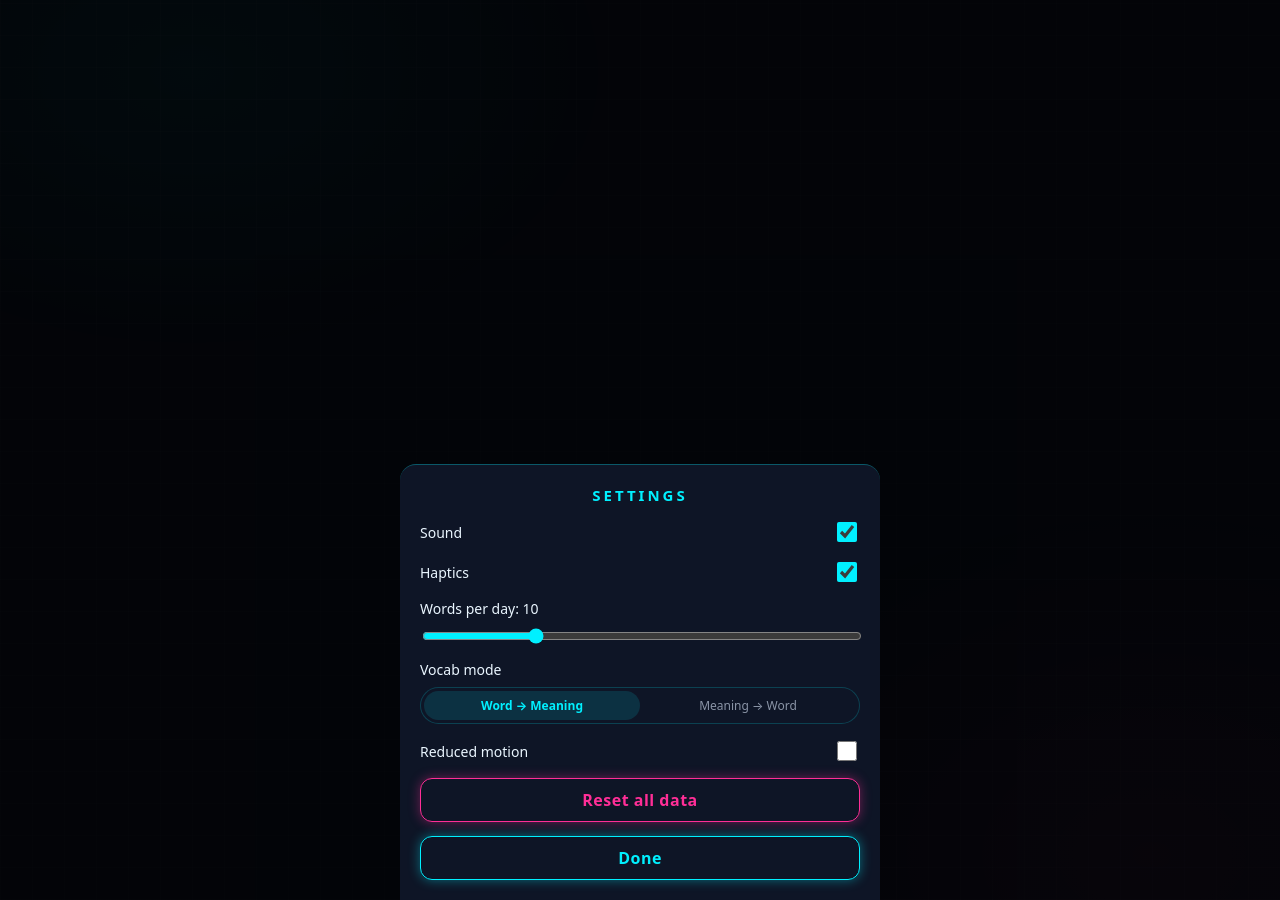
reset requires a second confirming tap
The width and height of the screenshot is (1280, 900).
Click the button "Reset all data" at (640,800), box [420,778,860,822]
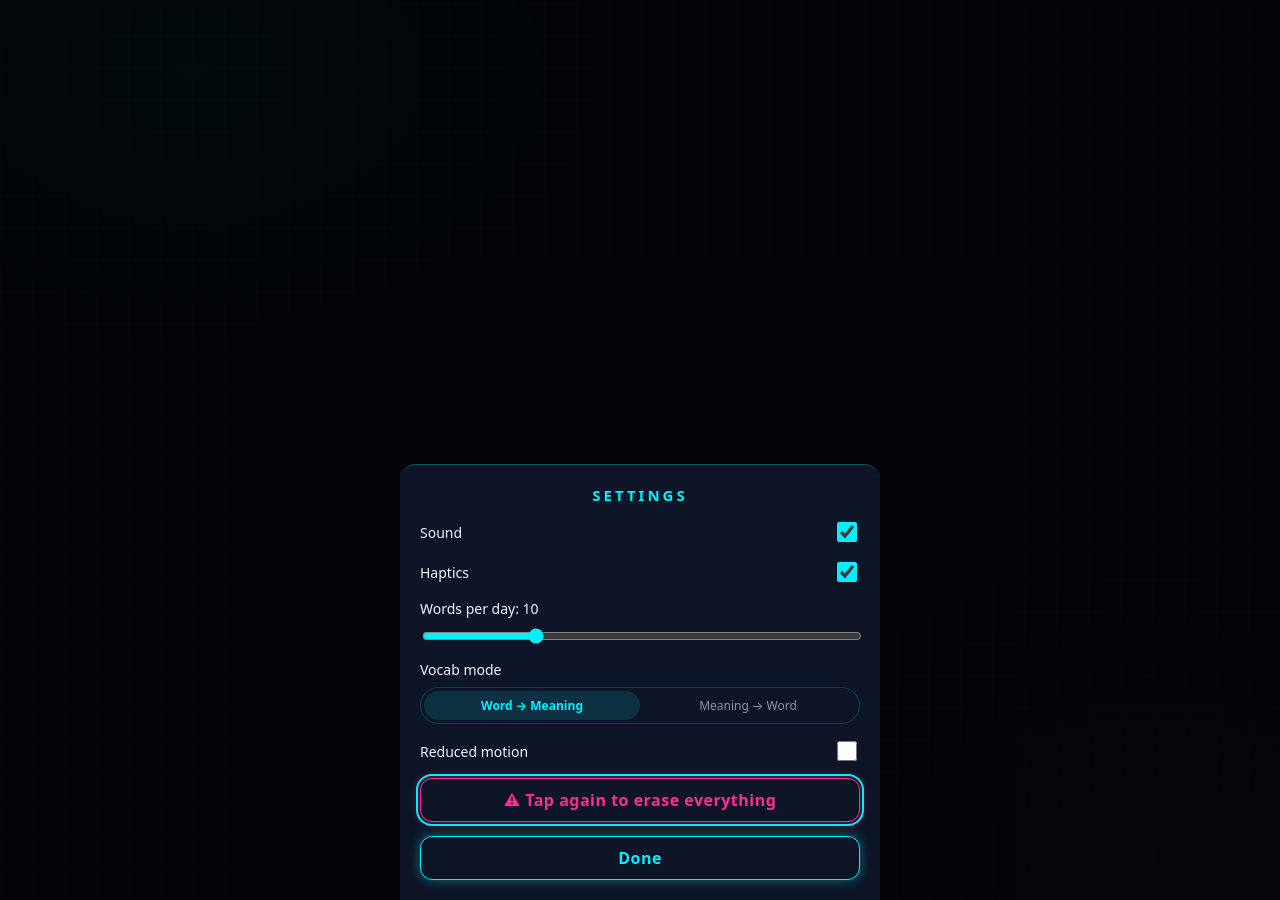
Check: the button "⚠ Tap again to erase everything" is shown, box [420,778,860,822]
